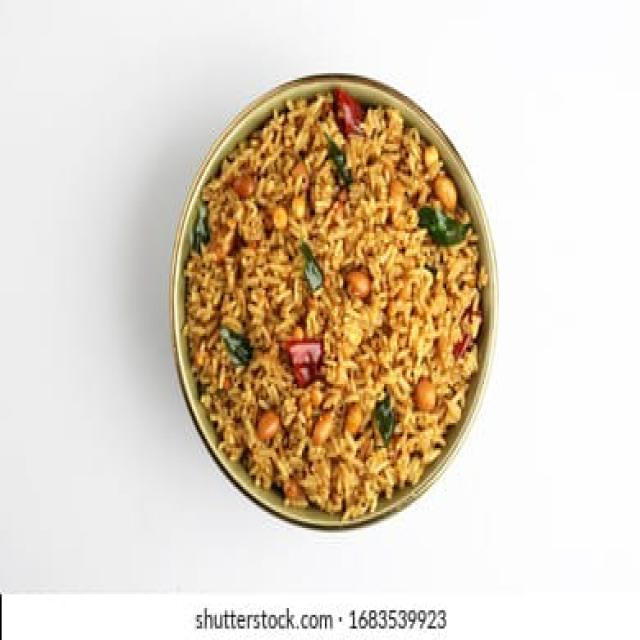puliyogare: (174, 73, 503, 537)
